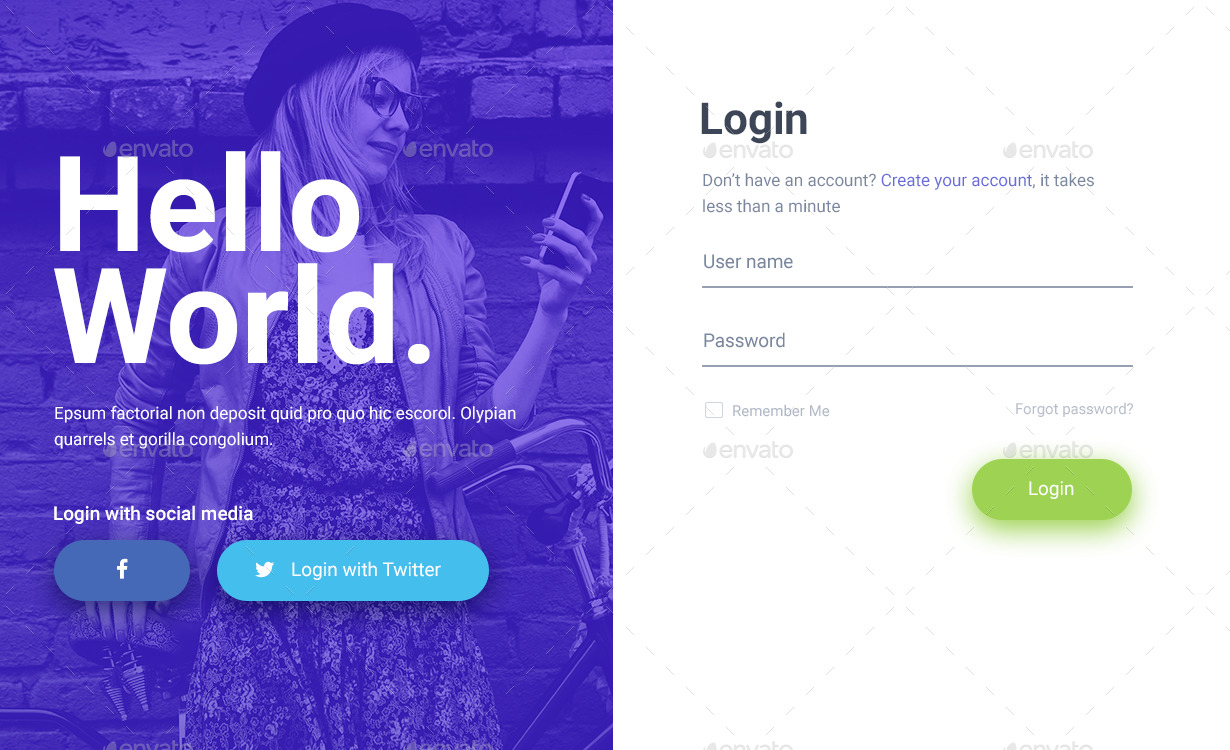_form_: (661, 220, 1156, 544), (35, 393, 530, 717)
button: (217, 539, 492, 601), (973, 458, 1132, 523), (54, 540, 190, 602)
checkbox: (703, 401, 730, 420)
checkbox_with_label: (700, 396, 836, 424)
field_line: (698, 247, 1139, 291), (699, 329, 1135, 370)
